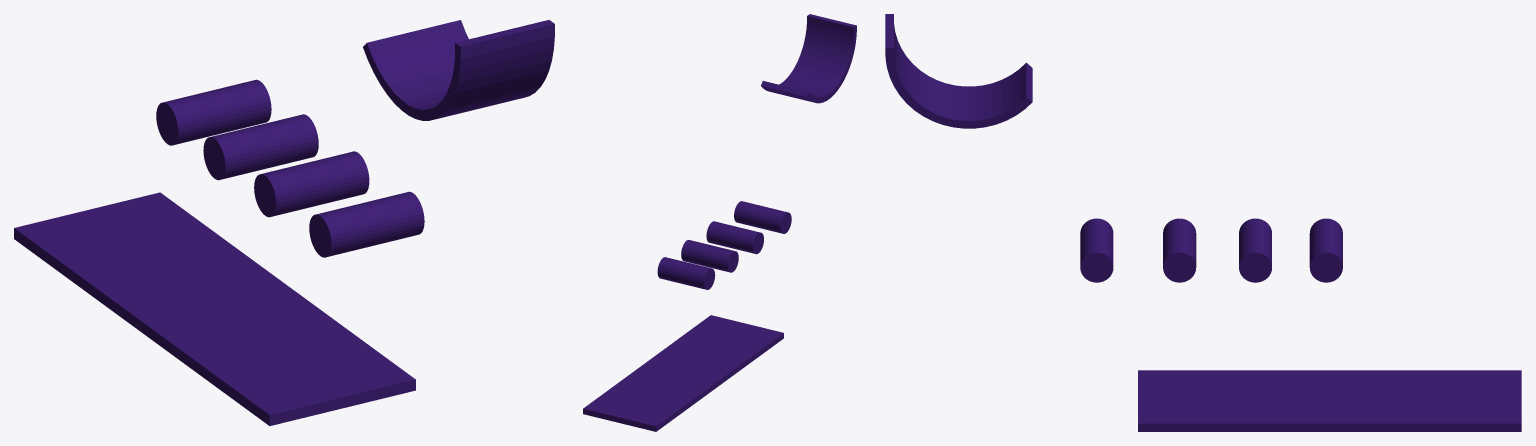
Rendered from cover.glb.
The picture shows the model from 3 angles, left to right: view 1: azimuth 30°, elevation 25°; view 2: azimuth 150°, elevation 25°; view 3: azimuth 270°, elevation 25°; orthographic projection. The views are drawn at different scales.
Parts seen in each view (by area): view 1: Cube.002, Cube.001, BézierCircle.001, BézierCircle, Cylinder.004, Cylinder.007, Cylinder.005, Cylinder.006, Cylinder.002, Cylinder.003, Cylinder, Cylinder.001; view 2: Cube.002, Cube.001, BézierCircle.001, BézierCircle, Cylinder.007, Cylinder.004, Cylinder.005, Cylinder.006, Cylinder, Cylinder.002, Cylinder.003, Cylinder.001; view 3: Cube.002, Cube.001, BézierCircle.001, BézierCircle, Cylinder.007, Cylinder.004, Cylinder.006, Cylinder.005, Cylinder.
Boxes of the visible parts, x1,y1,x2,y2 form: Cube.002: (14,192,415,425); Cube.001: (14,192,415,421); BézierCircle.001: (363,20,554,120); BézierCircle: (363,20,554,120); Cylinder.004: (156,80,271,145); Cylinder.007: (309,192,424,257); Cylinder.005: (203,116,318,180); Cylinder.006: (254,155,369,217); Cylinder.002: (258,151,369,216); Cylinder.003: (309,191,423,256); Cylinder: (156,79,270,144); Cylinder.001: (207,114,318,179); Cube.002: (583,316,783,431); Cube.001: (583,315,783,431); BézierCircle.001: (762,14,856,103); BézierCircle: (761,15,856,102); Cylinder.007: (734,201,791,233); Cylinder.004: (658,258,715,289); Cylinder.005: (681,242,738,272); Cylinder.006: (706,222,763,254); Cylinder: (657,257,714,287); Cylinder.002: (706,221,763,251); Cylinder.003: (734,201,790,233); Cylinder.001: (681,240,731,272); Cube.002: (1138,370,1521,426); Cube.001: (1138,390,1521,431); BézierCircle.001: (885,14,1032,128); BézierCircle: (885,29,1032,128); Cylinder.007: (1080,218,1113,282); Cylinder.004: (1309,218,1342,282); Cylinder.006: (1163,218,1196,282); Cylinder.005: (1239,218,1271,282); Cylinder: (1309,220,1342,282).
Size of the model in its own units: 1.59 by 5.18 by 8.01.
